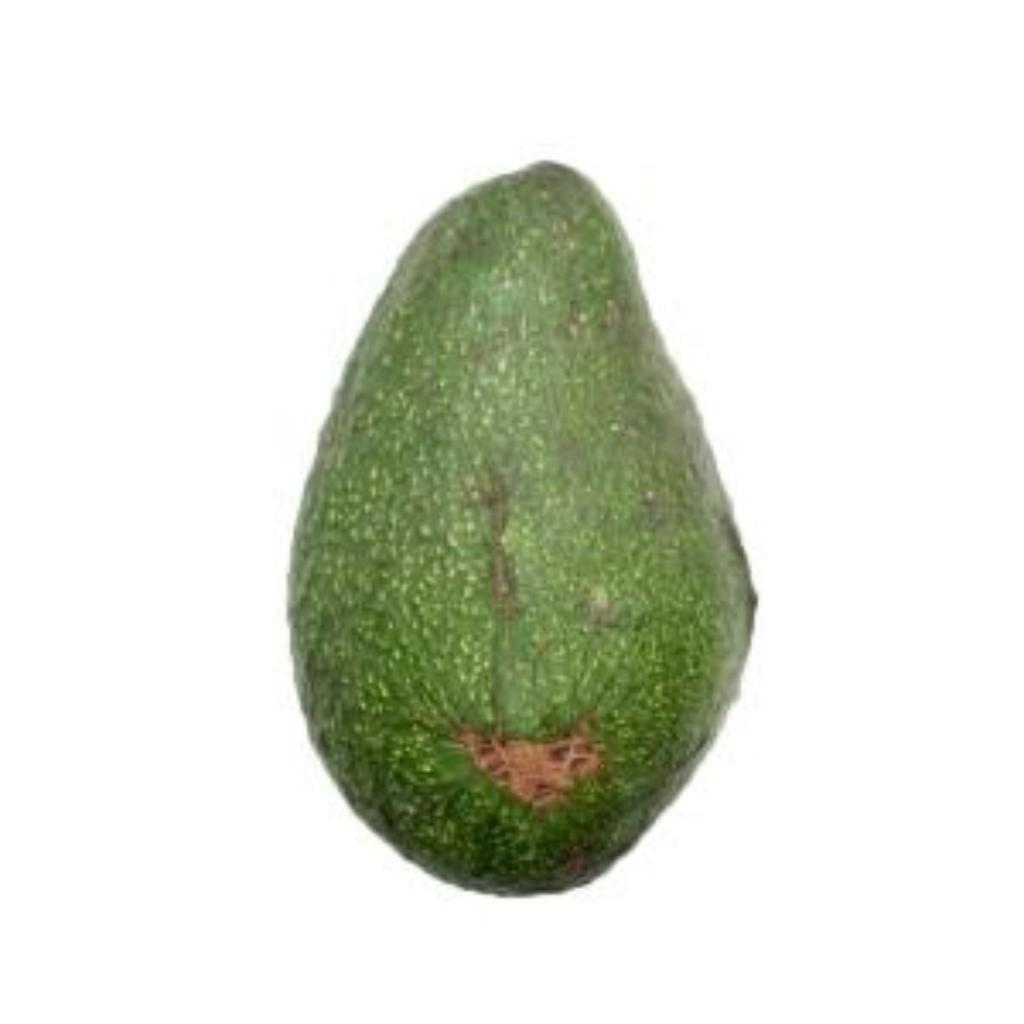cercospora: (282, 155, 770, 899)
